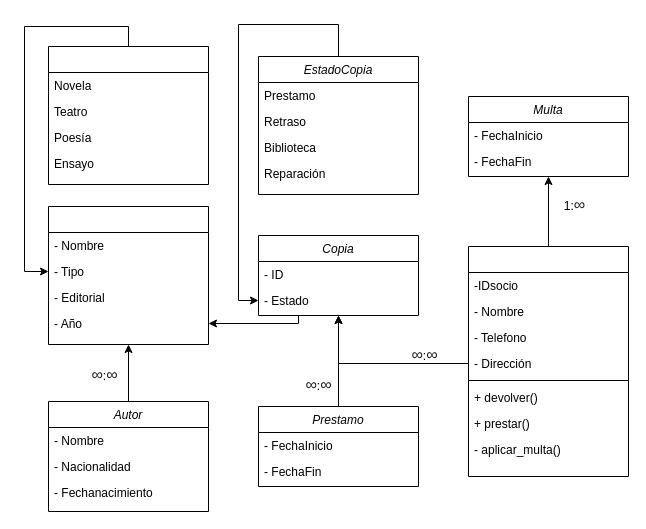
Some shapes in this 646 by 529 pixel diagram are drawn without their labels. The shapes that lost their labels are listed below. From the top down, each one's box as (x1, y1, x2, y2) in pixels, then its label:
(48, 46, 208, 184): TipoLibros
(48, 206, 208, 344): Libro
(468, 246, 628, 476): Lector
